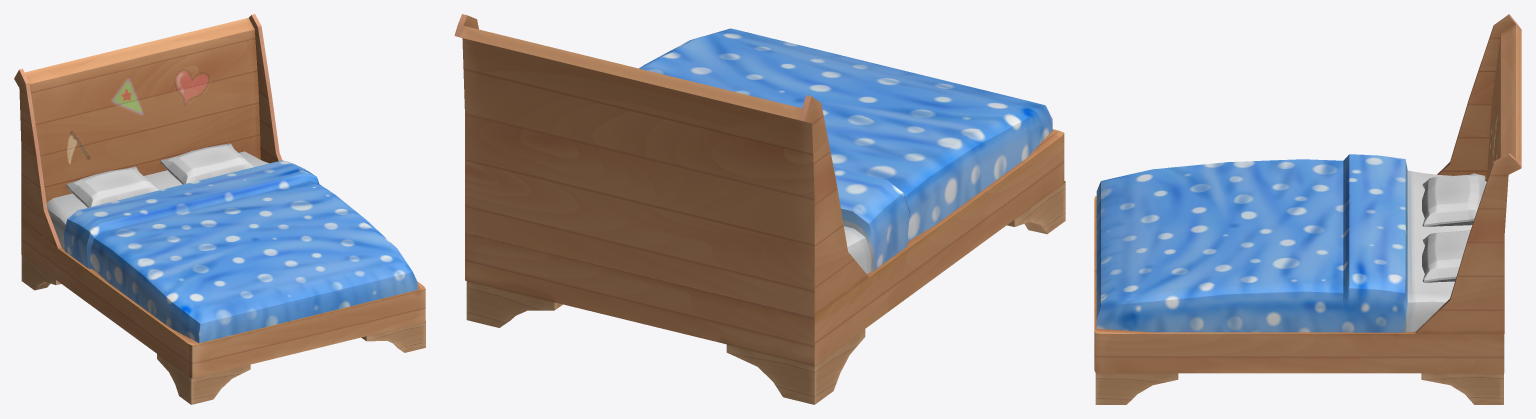
File: bed.fbx
3 renders of one model, left to right at view 1: azimuth 30°, elevation 25°; view 2: azimuth 150°, elevation 25°; view 3: azimuth 270°, elevation 25°, orthographic. The views are drawn at different scales.
Visible parts, largest first — view 1: Bed_mesh; view 2: Bed_mesh; view 3: Bed_mesh.
Part boxes in pixels (x1,y1,x2,y2): Bed_mesh: (14,14,425,404); Bed_mesh: (454,14,1065,404); Bed_mesh: (1094,14,1521,404).
Bounding box in the file's own units: 16.37 × 13.94 × 21.33.
1 material, 1 textured.
